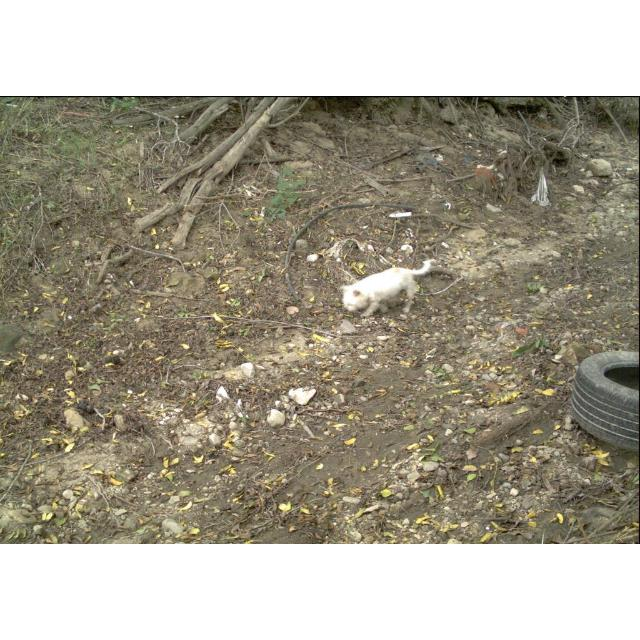animals: (342, 258, 438, 320)
